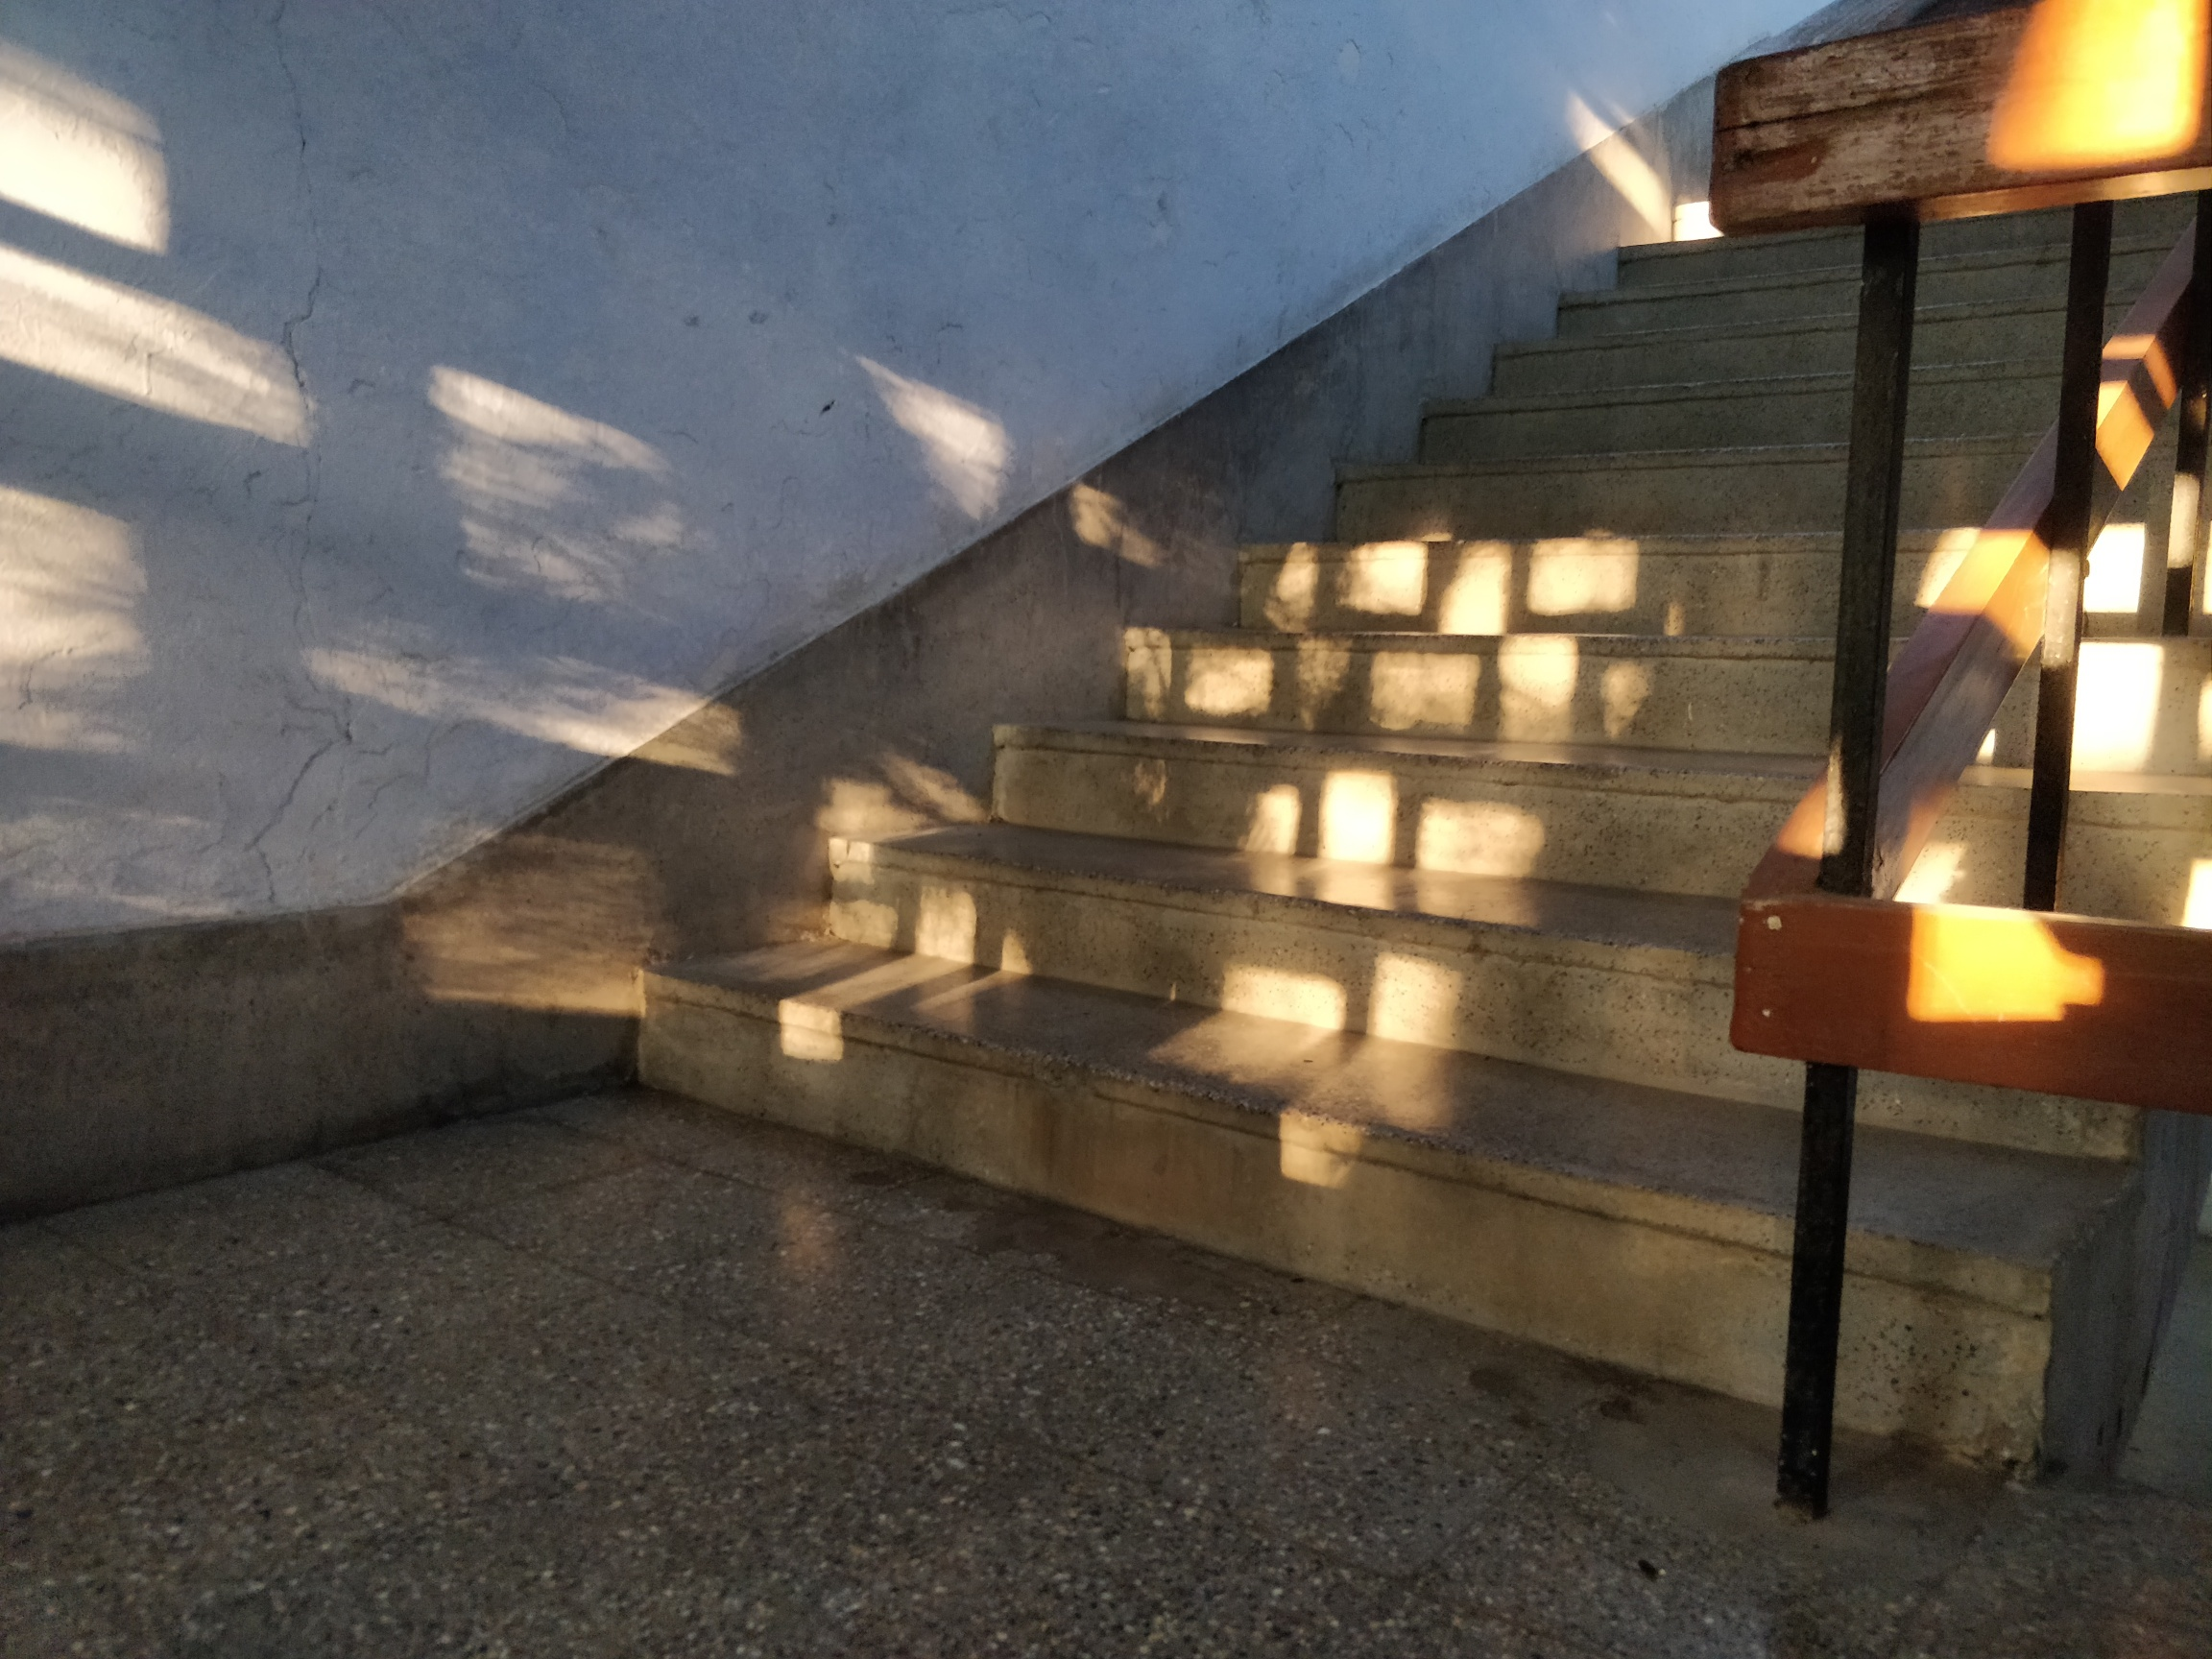stairs_up: (521, 202, 2202, 1389)
